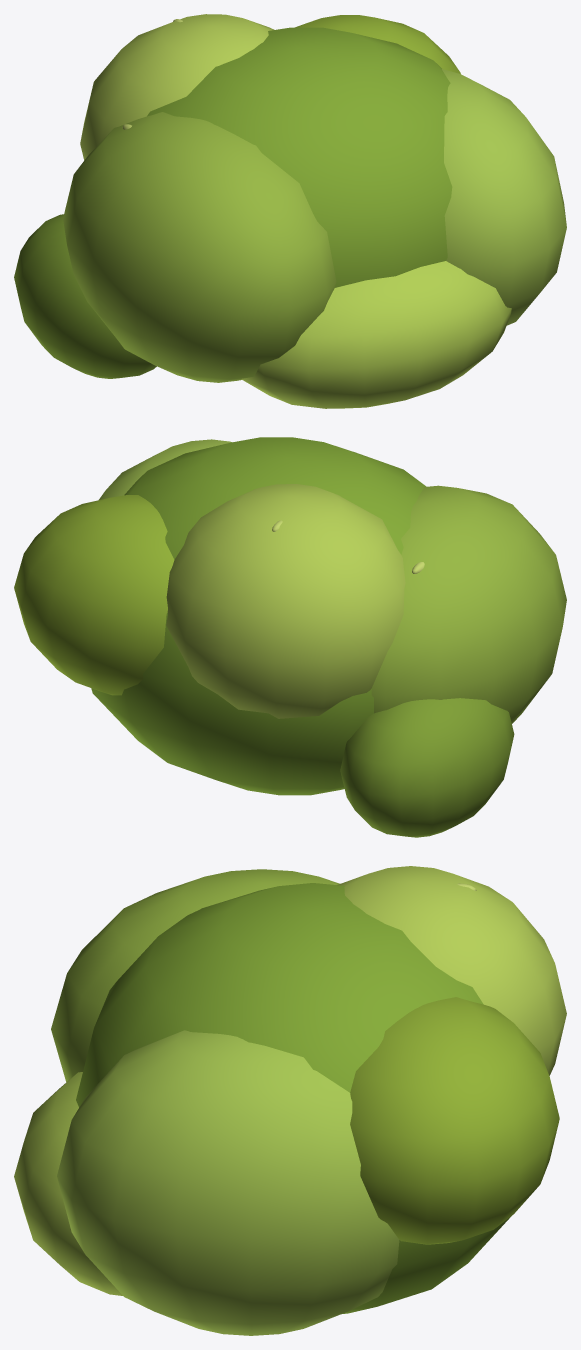
File: CMU3DLeafyCabbage.glb
3 views of the same model, one above another, from view 1: azimuth 30°, elevation 25°; view 2: azimuth 150°, elevation 25°; view 3: azimuth 270°, elevation 25° (orthographic). The views are drawn at different scales.
Parts seen in each view (by area): view 1: folded cabbage leaf (×6), cabbage core; view 2: folded cabbage leaf (×5), cabbage core; view 3: folded cabbage leaf (×5), cabbage core.
Boxes of the visible parts, bbox=[...] form: folded cabbage leaf (×6): bbox=[14, 14, 566, 408]; cabbage core: bbox=[147, 27, 452, 287]; folded cabbage leaf (×5): bbox=[14, 439, 566, 837]; cabbage core: bbox=[91, 437, 426, 795]; folded cabbage leaf (×5): bbox=[14, 866, 566, 1335]; cabbage core: bbox=[76, 883, 511, 1313].
Size of the model in its own units: 0.528 by 0.351 by 0.464.
